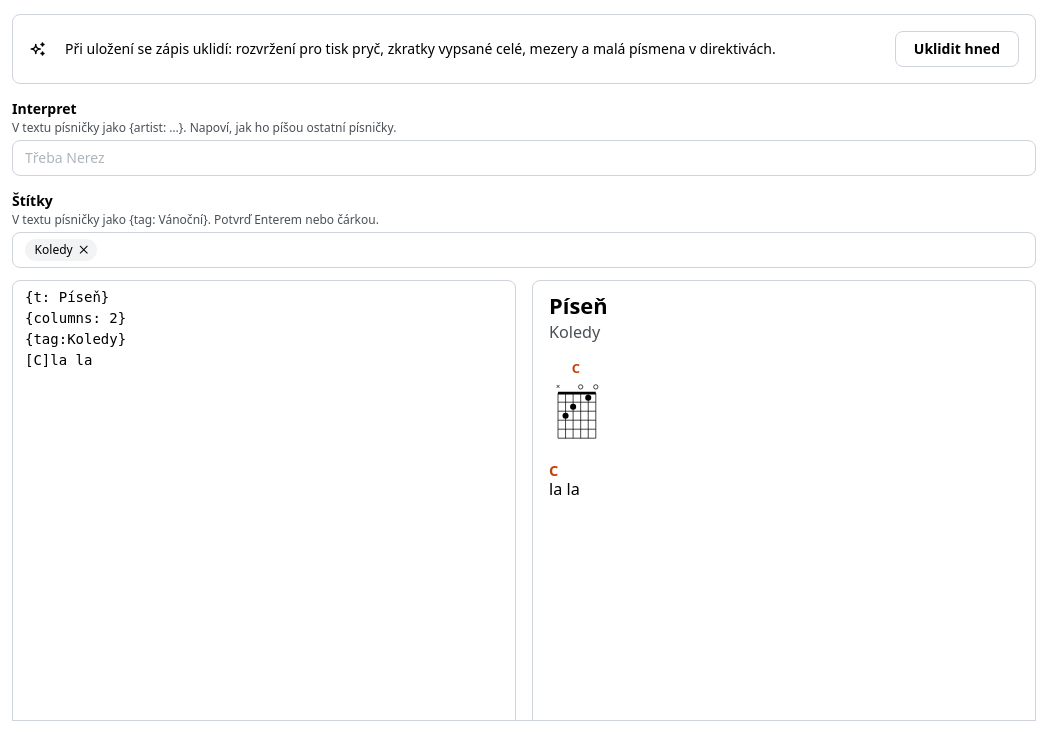
ChordProEditor › says what a save will tidy, and tidies it there and then when asked (D150)
Expected: the text "Při uložení se zápis uklidí: rozvržení pro tisk pryč, zkratky vypsané celé, mezery a malá písmena v direktivách." is shown, [65, 39, 776, 58]
What coordinates should you click on to do the following:
click the button "Uklidit hned"
I would click on:
 (957, 49)
Its box is [895, 31, 1019, 67].
(page scrolled)
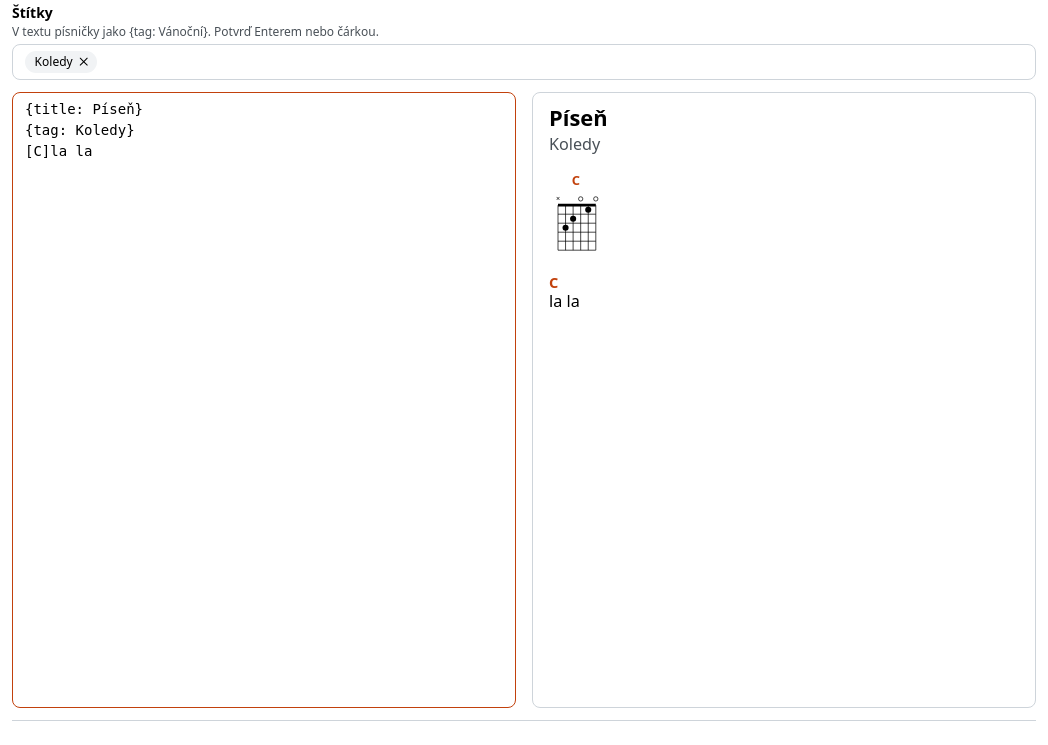
Expected: the button "Uklidit hned" is gone
